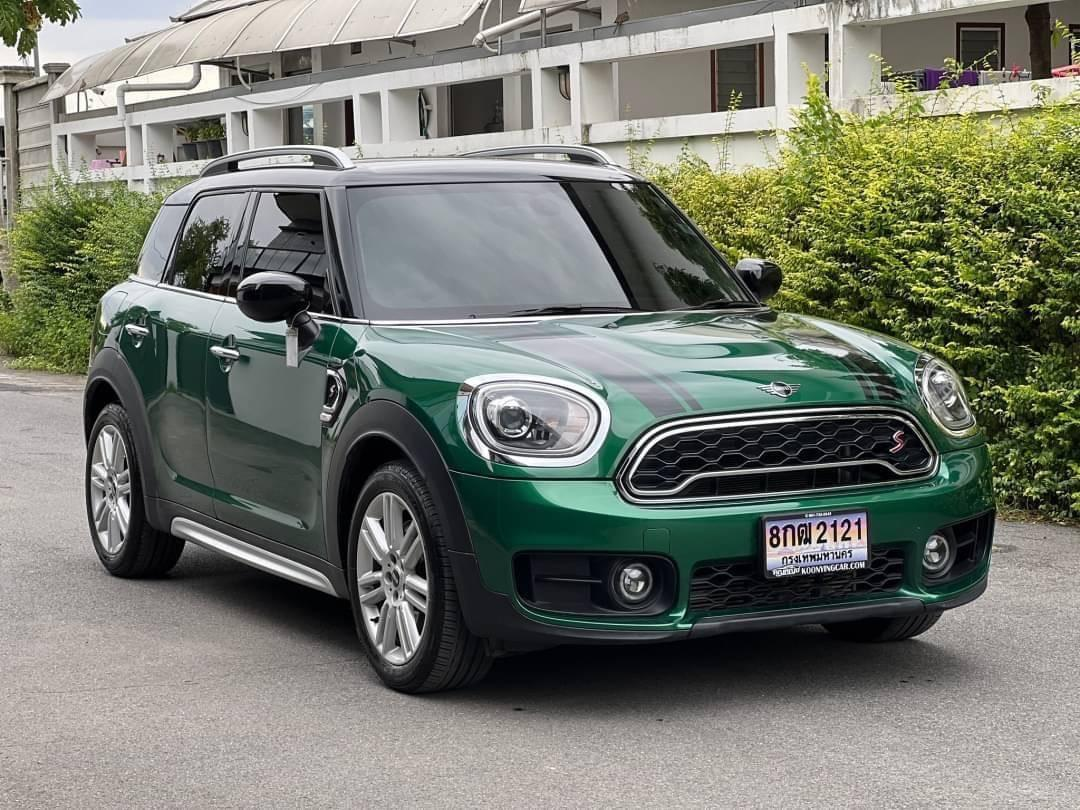license-plate: (757, 504, 879, 588)
